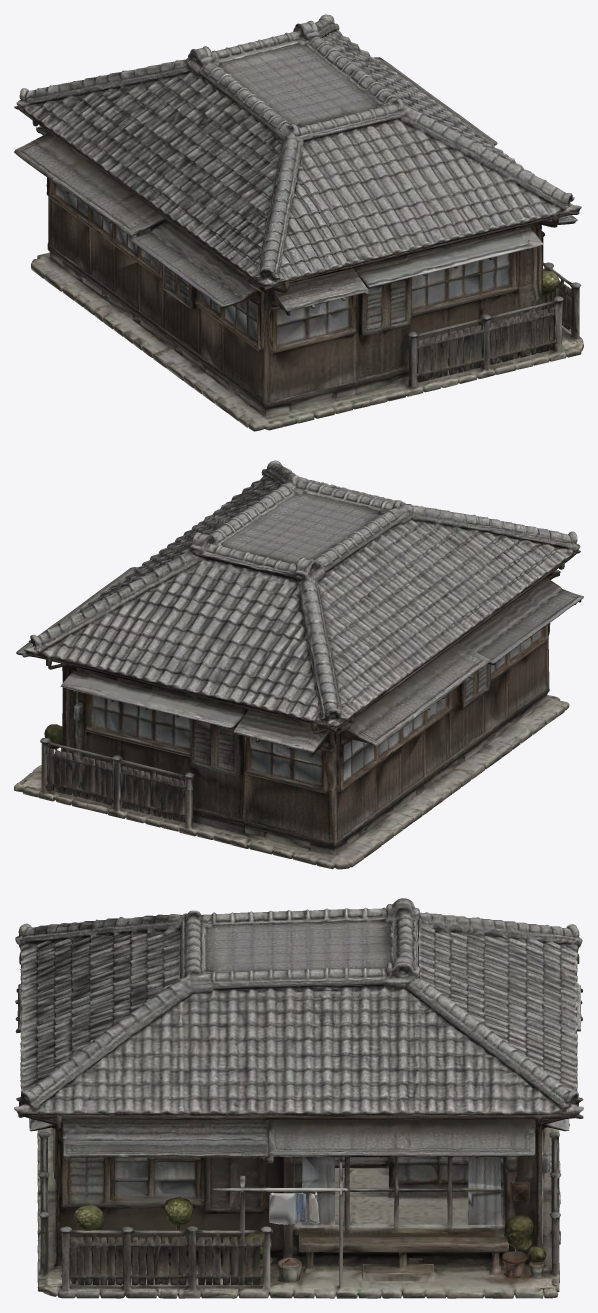
File: house.glb
The picture shows the model from 3 angles, top to bottom: view 1: azimuth 30°, elevation 25°; view 2: azimuth 150°, elevation 25°; view 3: azimuth 270°, elevation 25°; orthographic projection. The views are drawn at different scales.
Parts seen in each view (by area): view 1: tripo_node_f1341dab-6b75-42f0-bf07-15d4f13b629c; view 2: tripo_node_f1341dab-6b75-42f0-bf07-15d4f13b629c; view 3: tripo_node_f1341dab-6b75-42f0-bf07-15d4f13b629c.
Boxes of the visible parts, <box> form: tripo_node_f1341dab-6b75-42f0-bf07-15d4f13b629c: <box>14,14,583,431</box>; tripo_node_f1341dab-6b75-42f0-bf07-15d4f13b629c: <box>14,460,583,869</box>; tripo_node_f1341dab-6b75-42f0-bf07-15d4f13b629c: <box>14,898,583,1298</box>.
Bounding box in the file's own units: 0.8448 × 0.5242 × 0.9998.
Materials: 1 (1 with a texture image).
